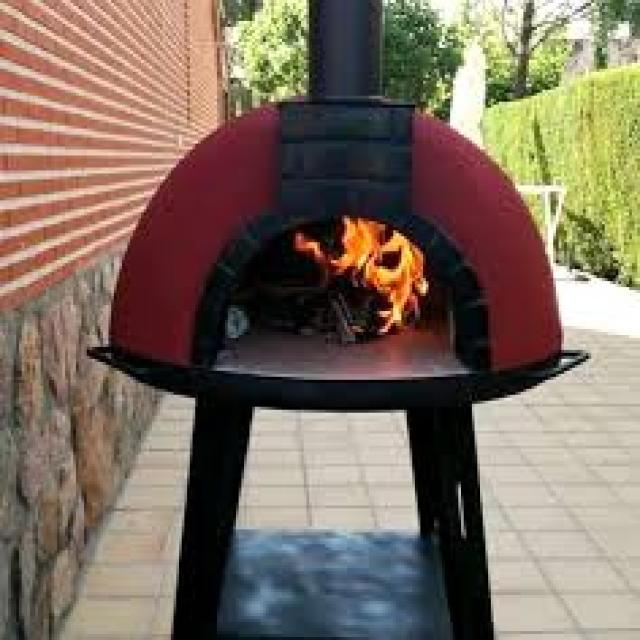fire: (332, 214, 429, 336)
